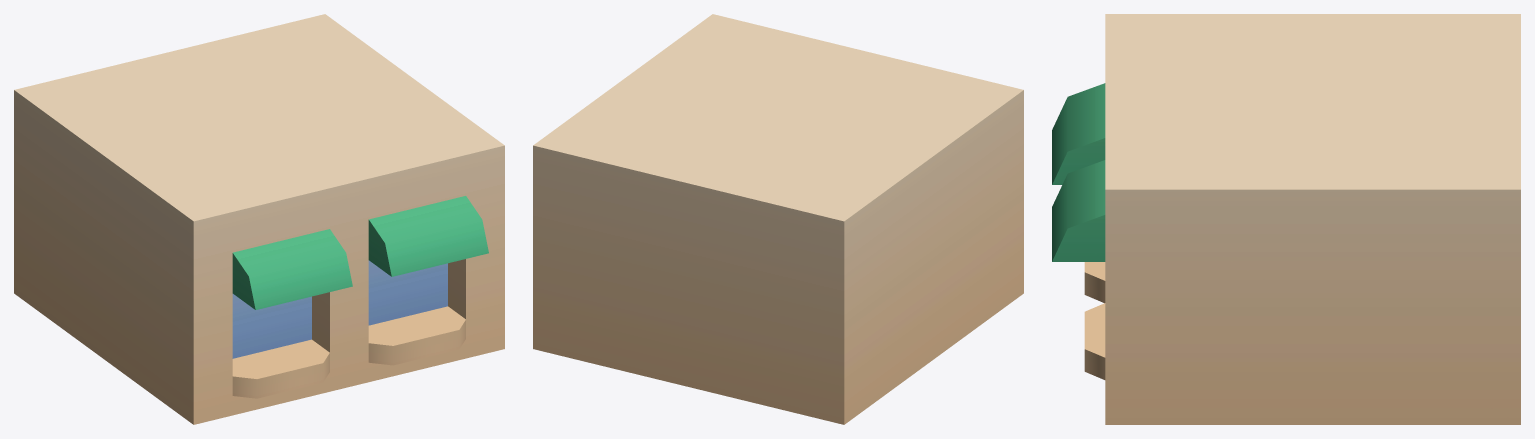
Rendered from kenney-modular-buildings-building-window-awnings.glb.
3 renders of one model, left to right at view 1: azimuth 30°, elevation 25°; view 2: azimuth 150°, elevation 25°; view 3: azimuth 270°, elevation 25°, orthographic. The views are drawn at different scales.
Visible parts, largest first — view 1: building-window-awnings; view 2: building-window-awnings; view 3: building-window-awnings.
Part boxes in pixels (box(x1,y1,x2,y2)): building-window-awnings: box(14, 14, 504, 424); building-window-awnings: box(533, 14, 1023, 424); building-window-awnings: box(1052, 14, 1520, 424).
Bounding box in the file's own units: 1 × 0.625 × 1.13.
Materials: 1 (1 with a texture image).
